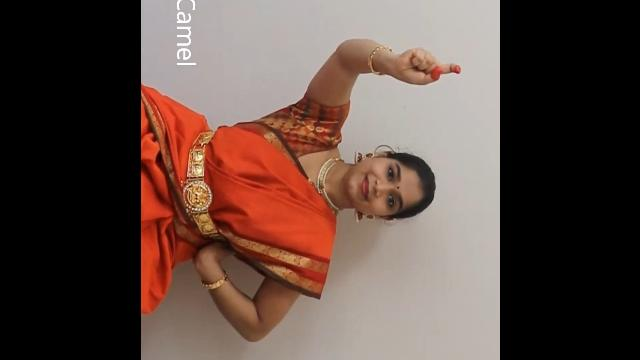tamrachud: (371, 29, 474, 109)
